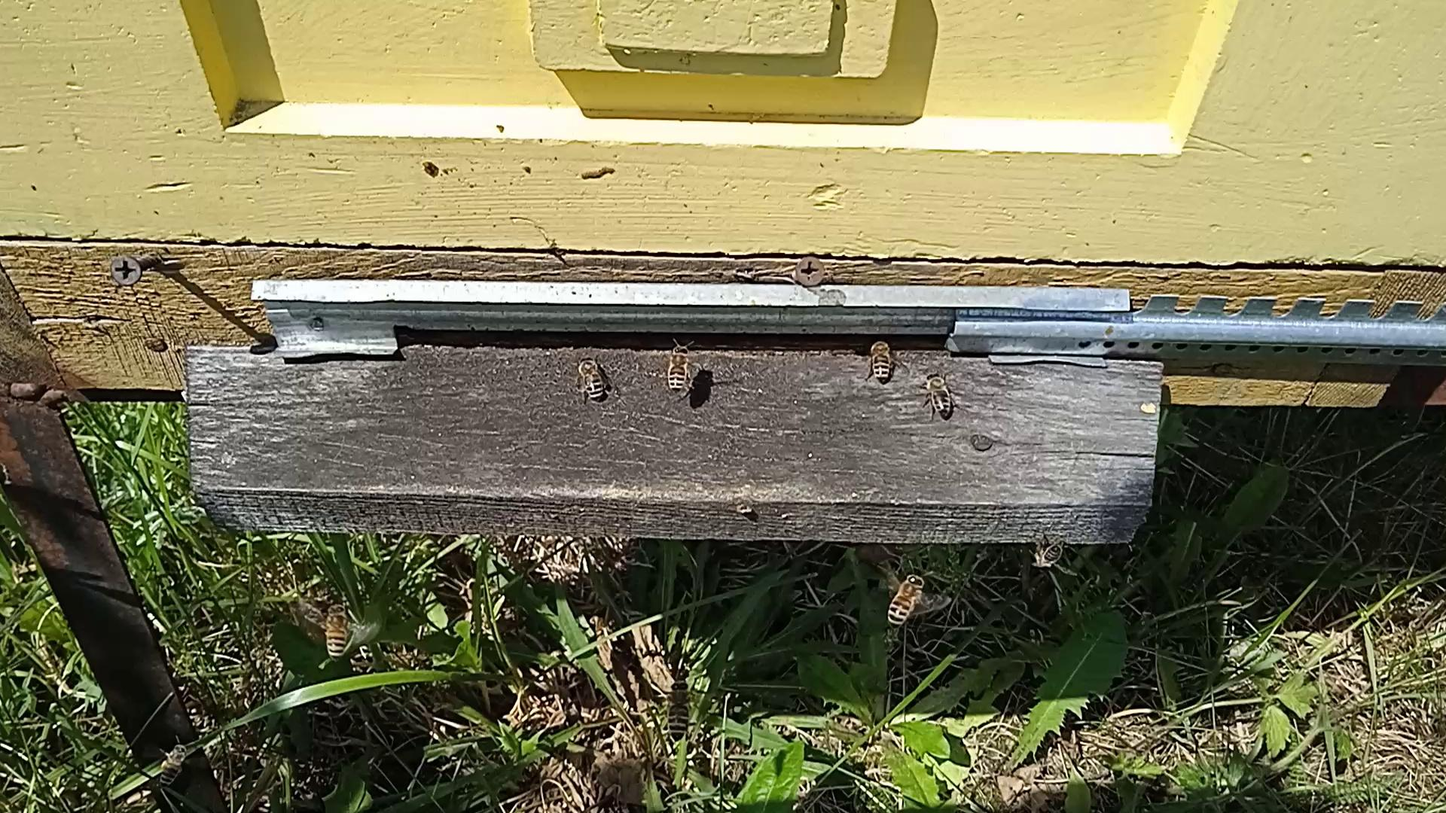worker-bee: (888, 572, 925, 629), (322, 603, 352, 659), (665, 680, 692, 741), (574, 355, 608, 403), (923, 371, 954, 418), (665, 343, 693, 394), (866, 339, 896, 384), (159, 744, 189, 788), (1033, 539, 1067, 568)
